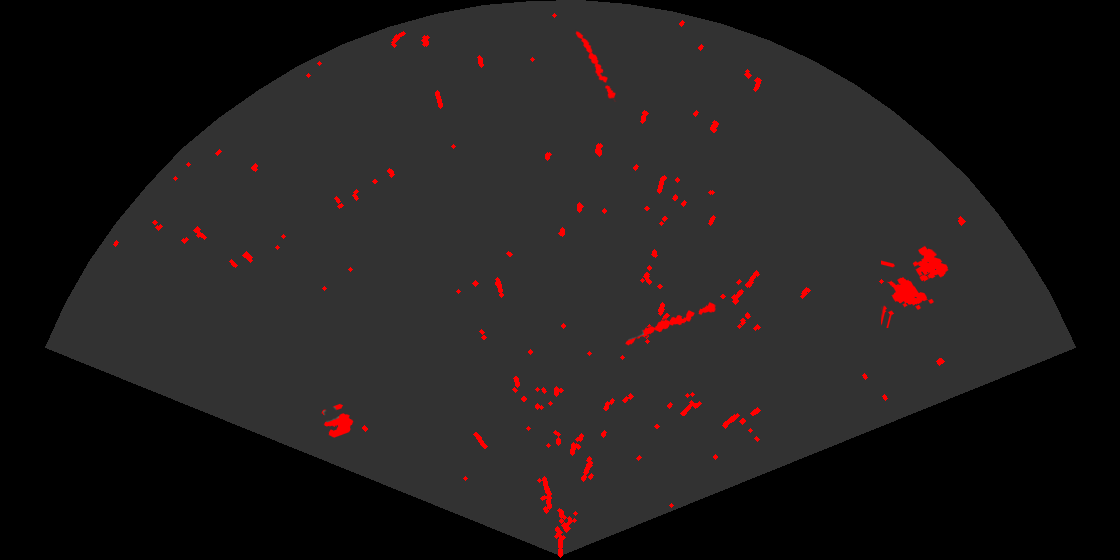ball: (320, 402, 355, 439)
cage: (881, 244, 950, 328)
chain: (624, 301, 718, 347), (574, 29, 618, 102)
